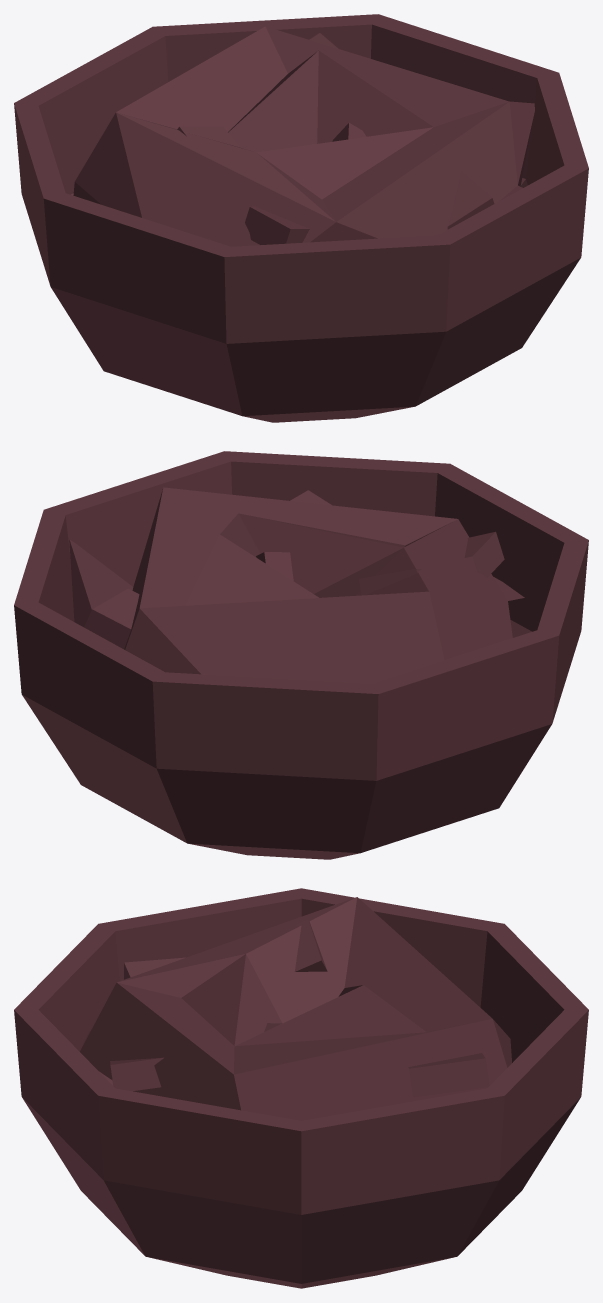
File: bowl-salad.fbx
3 renders of one model, top to bottom at view 1: azimuth 30°, elevation 25°; view 2: azimuth 150°, elevation 25°; view 3: azimuth 270°, elevation 25°, orthographic. The views are drawn at different scales.
Parts seen in each view (by area): view 1: bowl-salad; view 2: bowl-salad; view 3: bowl-salad.
Part boxes in pixels (bbox=[...]): bowl-salad: bbox=[14, 14, 588, 422]; bowl-salad: bbox=[14, 451, 588, 859]; bowl-salad: bbox=[14, 888, 588, 1288].
Size of the model in its own units: 0.2 by 0.1084 by 0.2.
